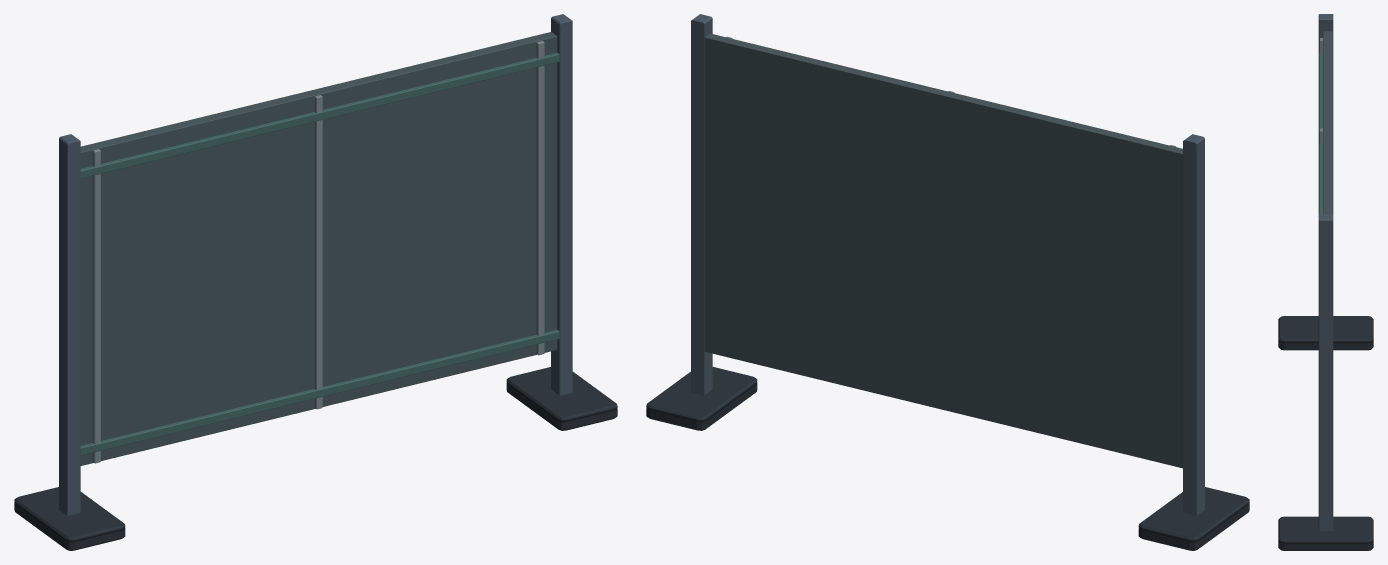
File: R-21_mounting_screen.glb
3 views of the same model, side by side, from view 1: azimuth 30°, elevation 25°; view 2: azimuth 150°, elevation 25°; view 3: azimuth 270°, elevation 25° (orthographic). The views are drawn at different scales.
Parts seen in each view (by area): view 1: R-21_mounting_screen; view 2: R-21_mounting_screen; view 3: R-21_mounting_screen.
Part boxes in pixels (x1,y1,x2,y2): R-21_mounting_screen: (14,14,617,550); R-21_mounting_screen: (646,14,1249,550); R-21_mounting_screen: (1278,14,1373,550).
Size of the model in its own units: 2.96 by 1.98 by 0.53.
